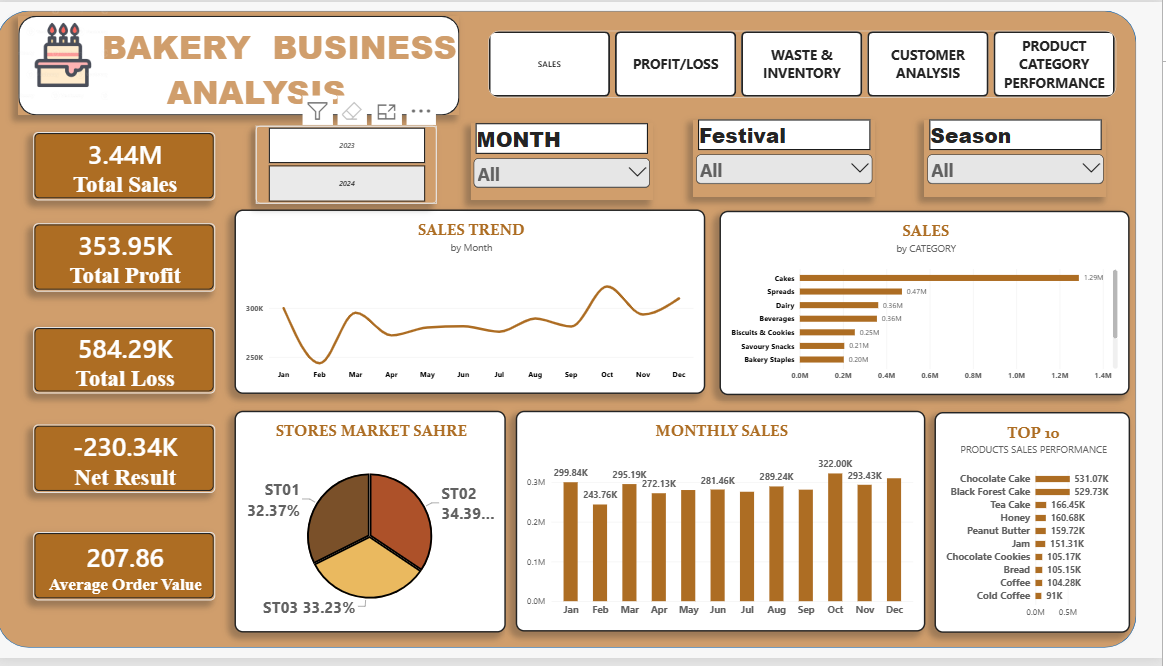

Layout of this report page (visuals, bound fields, positions):
{"tool":"powerbi","page":{"name":"SALES","canvas":[1920,1080],"ordinal":0},"visuals":[{"type":"shape","box":[0,14,1878,1050],"z":0},{"type":"shape","box":[35,23.2,727.5,164.3],"z":500,"group":"g1"},{"type":"textbox","box":[173.1,34.1,640.8,169],"z":1000,"group":"g1"},{"type":"cardVisual","fields":{"Data":["_Measures.Total Sales"]},"box":[59.7,214.1,300,112.8],"z":1000},{"type":"group","id":"g1","title":"Group 1","box":[35,12.5,778.9,190.6],"z":2000},{"type":"image","box":[35,12.5,147.3,150],"z":3000,"group":"g1"},{"type":"cardVisual","fields":{"Data":["_Measures.Total Profit"]},"box":[59.7,364.3,300,112.8],"z":3000},{"type":"cardVisual","fields":{"Data":["_Measures.Total Loss"]},"box":[59.7,535.2,300,109.3],"z":4000},{"type":"cardVisual","fields":{"Data":["_Measures.Net Result"]},"box":[59.8,696.5,300,112.8],"z":5000},{"type":"cardVisual","fields":{"Data":["_Measures.Average Order Value"]},"box":[59.7,872.7,300,112.8],"z":6000},{"type":"lineChart","title":" SALES TREND","fields":{"Y":["Sum(bakery_synthetic_dataset.Total_Bill)"],"Category":["bakery_synthetic_dataset.MONTH"]},"box":[392,342,776,304],"z":7000},{"type":"pieChart","title":"STORES MARKET SAHRE ","fields":{"Category":["bakery_synthetic_dataset.Store_ID"],"Y":["_Measures.Total Sales"]},"box":[392,674,446.8,366],"z":8000},{"type":"slicer","fields":{"Values":["bakery_synthetic_dataset.MONTH NAME"]},"box":[780.1,199.7,300,127.5],"z":9000},{"type":"slicer","fields":{"Values":["bakery_synthetic_dataset.Festival"]},"box":[1148.5,193.5,300,127.5],"z":10000},{"type":"slicer","fields":{"Values":["bakery_synthetic_dataset.Season"]},"box":[1529.3,193.5,300,127.5],"z":11000},{"type":"slicer","fields":{"Values":["bakery_synthetic_dataset.year"]},"box":[426.5,204,298.8,127.8],"z":12000},{"type":"pageNavigator","box":[810,47.5,1035,110],"z":13000},{"type":"columnChart","title":"MONTHLY SALES","fields":{"Category":["bakery_synthetic_dataset.MONTH"],"Y":["Sum(bakery_synthetic_dataset.Total_Bill)"]},"box":[854.2,673.1,675.1,364.3],"z":14000},{"type":"barChart","title":"TOP 10 ","fields":{"Y":["Sum(bakery_synthetic_dataset.Total_Bill)"],"Category":["bakery_synthetic_dataset.Product"]},"box":[1546,676,322,364],"z":15000},{"type":"barChart","title":"SALES ","fields":{"Category":["bakery_synthetic_dataset.Category"],"Y":["Sum(bakery_synthetic_dataset.Total_Bill)"]},"box":[1192,344,676,304],"z":16000}]}

Visuals, with their boxes on the page's 1920x1080 design canvas (x1, y1, x2, y2). These are canvas units, not pixel positions in the 1166x666 screenshot, which may show the page scaled, cropped or inside an application window:
shape: {"left": 0, "top": 14, "right": 1878, "bottom": 1064}
shape: {"left": 35, "top": 23, "right": 762, "bottom": 188}
textbox: {"left": 173, "top": 34, "right": 814, "bottom": 203}
cardVisual - _Measures.Total Sales: {"left": 60, "top": 214, "right": 360, "bottom": 327}
"Group 1" group: {"left": 35, "top": 12, "right": 814, "bottom": 203}
image: {"left": 35, "top": 12, "right": 182, "bottom": 162}
cardVisual - _Measures.Total Profit: {"left": 60, "top": 364, "right": 360, "bottom": 477}
cardVisual - _Measures.Total Loss: {"left": 60, "top": 535, "right": 360, "bottom": 644}
cardVisual - _Measures.Net Result: {"left": 60, "top": 696, "right": 360, "bottom": 809}
cardVisual - _Measures.Average Order Value: {"left": 60, "top": 873, "right": 360, "bottom": 986}
" SALES TREND" lineChart: {"left": 392, "top": 342, "right": 1168, "bottom": 646}
"STORES MARKET SAHRE " pieChart: {"left": 392, "top": 674, "right": 839, "bottom": 1040}
slicer - bakery_synthetic_dataset.MONTH NAME: {"left": 780, "top": 200, "right": 1080, "bottom": 327}
slicer - bakery_synthetic_dataset.Festival: {"left": 1148, "top": 194, "right": 1448, "bottom": 321}
slicer - bakery_synthetic_dataset.Season: {"left": 1529, "top": 194, "right": 1829, "bottom": 321}
slicer - bakery_synthetic_dataset.year: {"left": 426, "top": 204, "right": 725, "bottom": 332}
pageNavigator: {"left": 810, "top": 48, "right": 1845, "bottom": 158}
"MONTHLY SALES" columnChart: {"left": 854, "top": 673, "right": 1529, "bottom": 1037}
"TOP 10 " barChart: {"left": 1546, "top": 676, "right": 1868, "bottom": 1040}
"SALES " barChart: {"left": 1192, "top": 344, "right": 1868, "bottom": 648}
